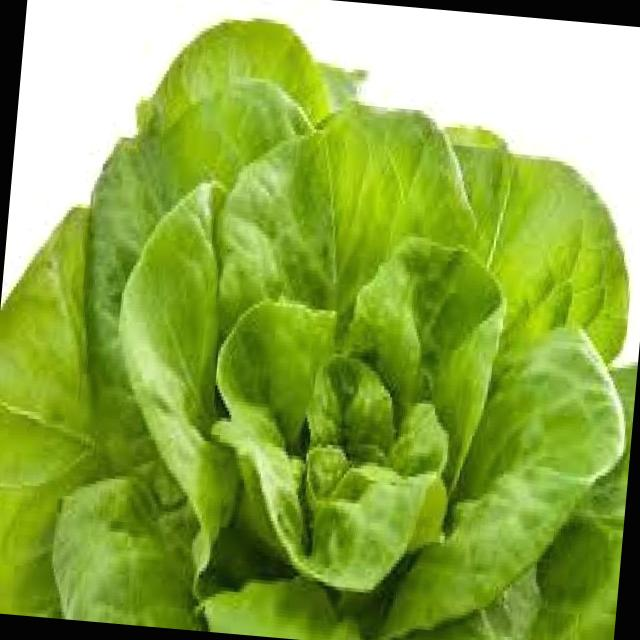Lettuce-Ready-to-Harvest: (0, 21, 637, 640)
